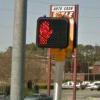Traffic light: (31, 11, 76, 56)
